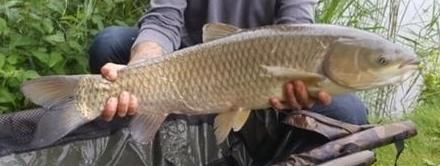Grass Carp: (20, 17, 422, 150)
